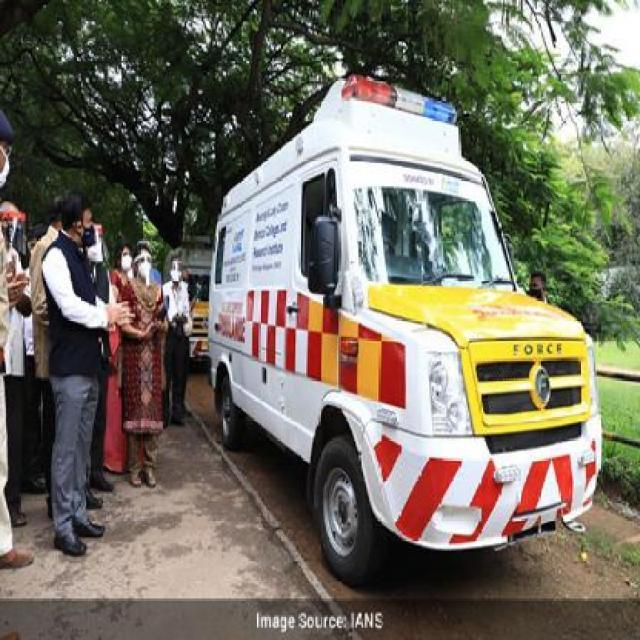Ambulance: (202, 70, 606, 590), (0, 347, 638, 638), (24, 189, 136, 560), (0, 101, 37, 578), (180, 274, 212, 372)
